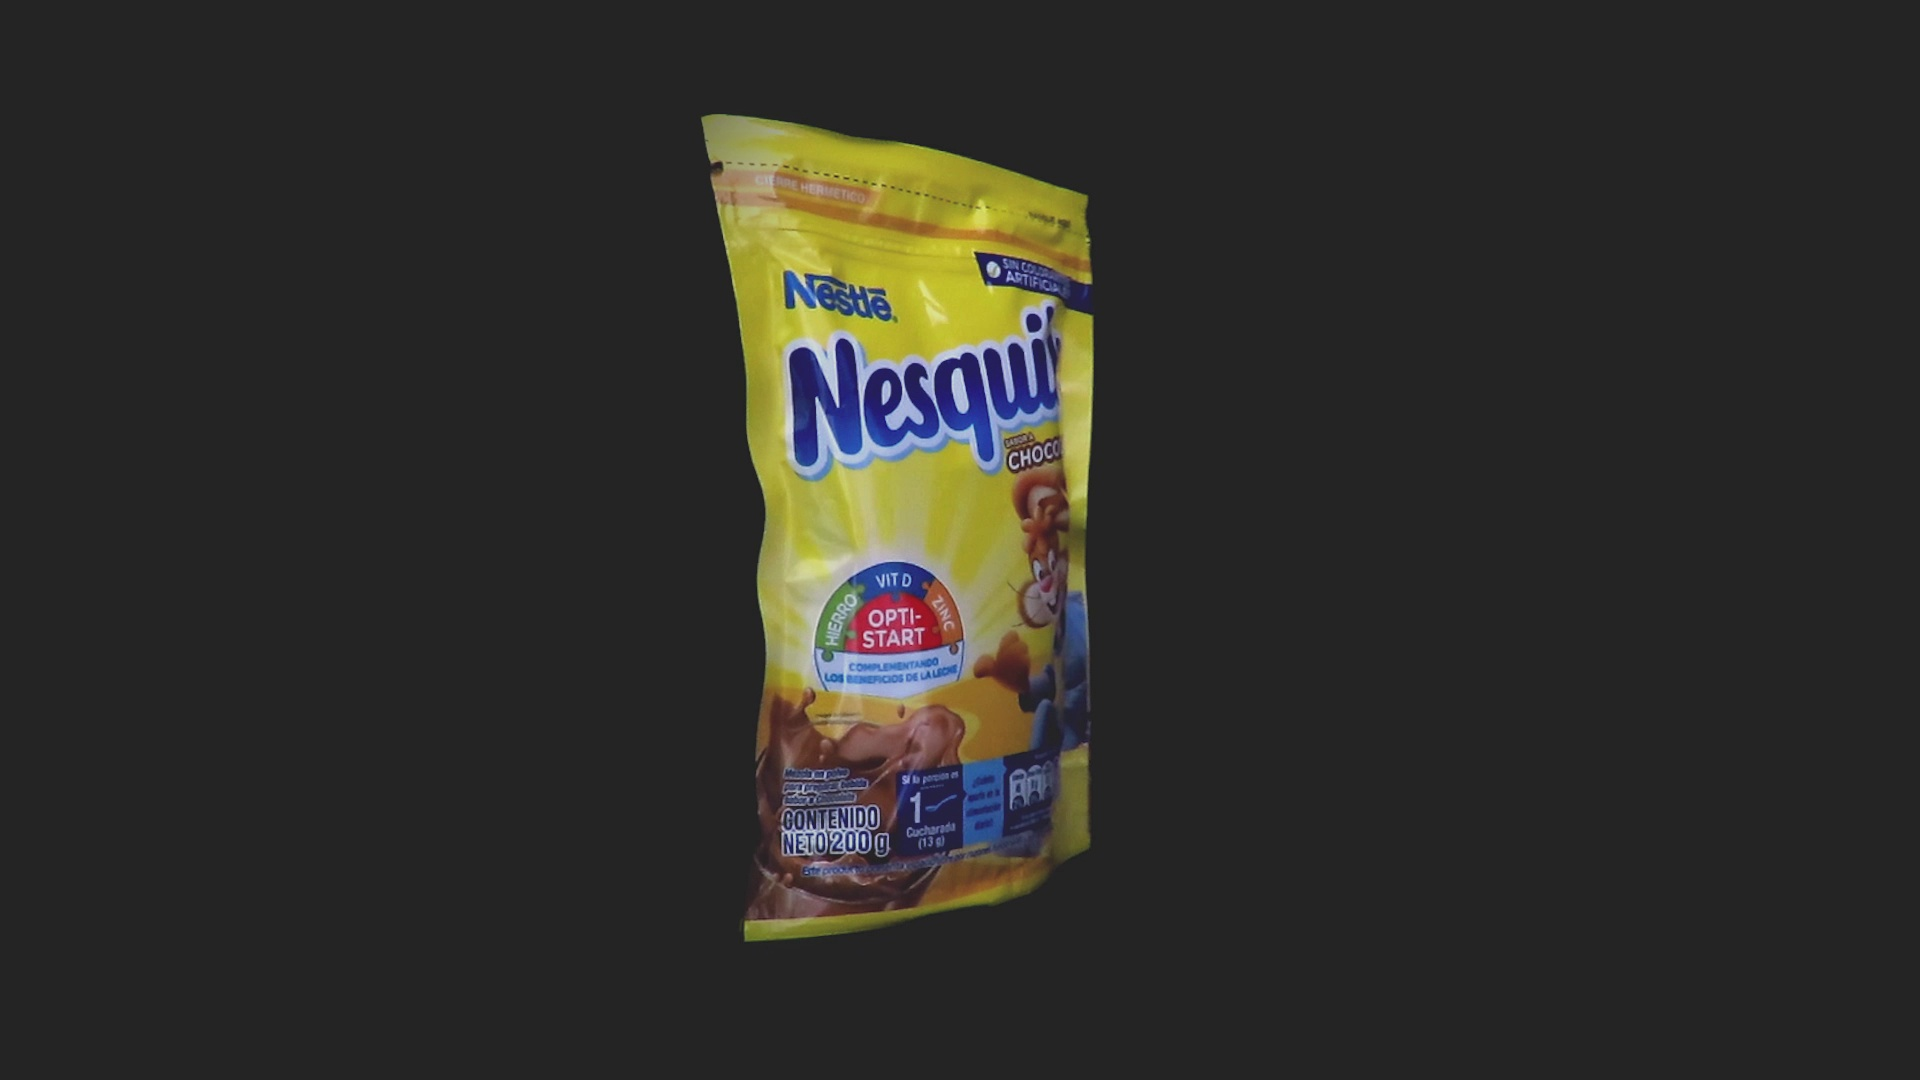COL0170303DYP20000: (696, 109, 1100, 948)
